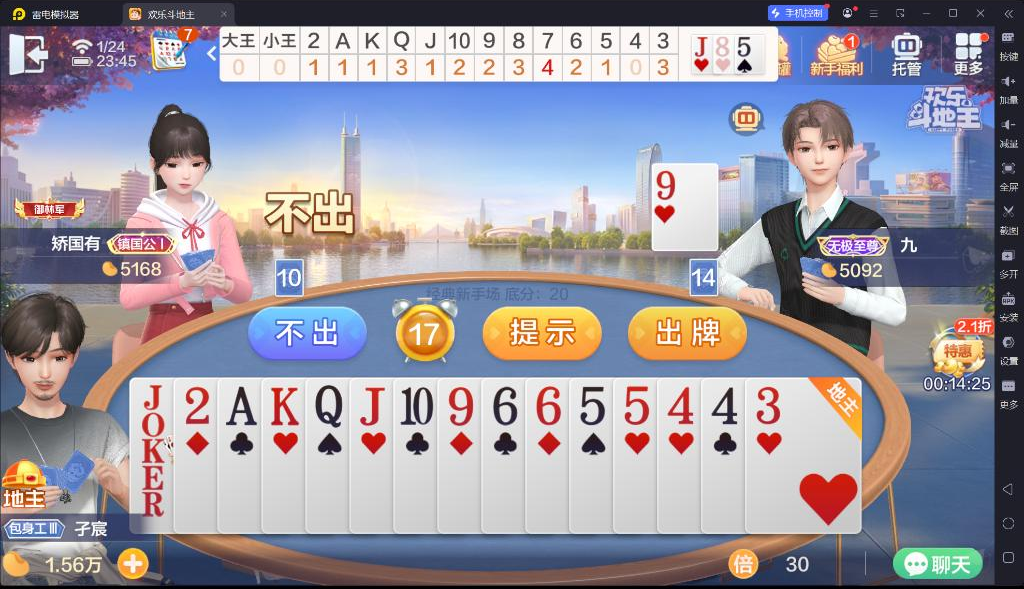A: (224, 383, 259, 429)
J: (355, 383, 387, 426), (693, 35, 708, 58)
JOKER: (139, 382, 165, 468)
K: (268, 382, 301, 428)
Q: (311, 383, 344, 429)
eight: (714, 35, 730, 58)
five: (576, 381, 608, 426), (621, 382, 653, 425), (736, 36, 753, 57)
four: (708, 385, 740, 428), (664, 384, 696, 426)
nine: (445, 385, 475, 428), (654, 169, 676, 202)
six: (532, 382, 564, 428), (489, 384, 519, 428)
ten: (397, 384, 435, 428)
three: (754, 384, 782, 426)
two: (182, 383, 212, 426)
